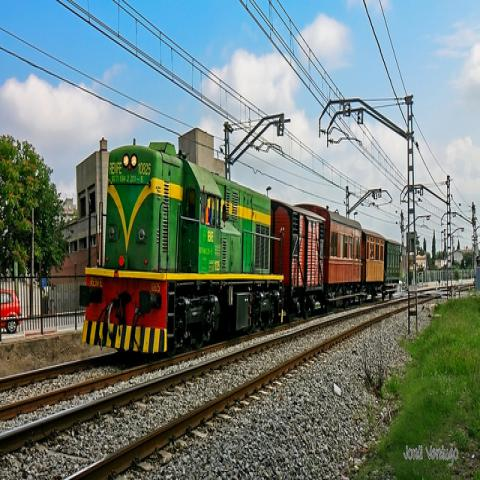car: (0, 289, 21, 334)
